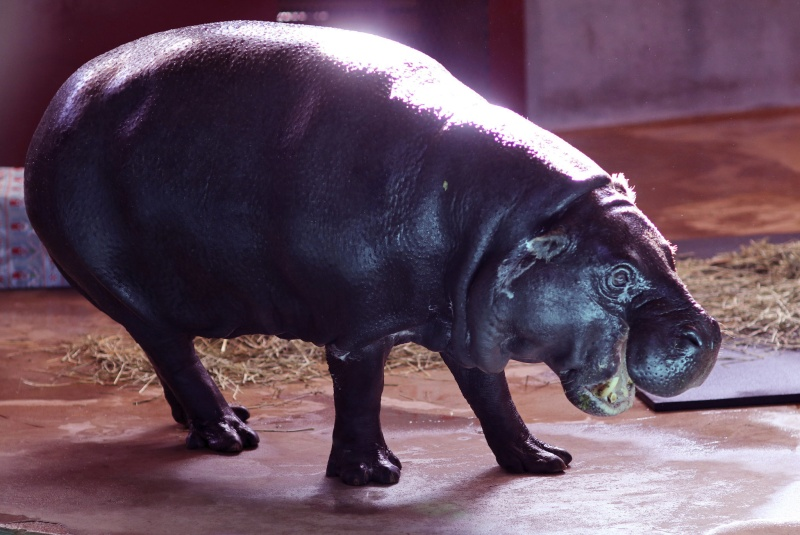hipopotamo: (25, 19, 724, 486)
